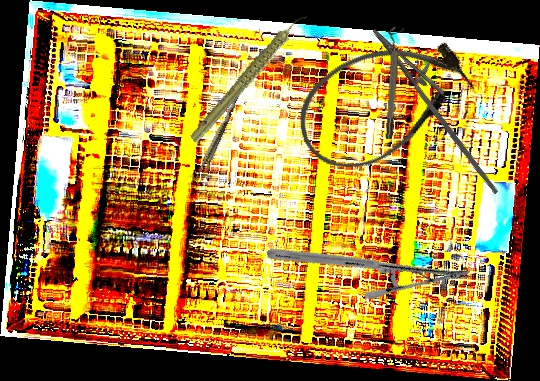Cannula: (279, 15, 487, 189)
Fixation Ring: (379, 26, 404, 140)
Handpiece: (169, 12, 331, 145)
Needle Holder: (265, 180, 473, 348), (353, 17, 528, 195)
Tissue Forceps: (193, 76, 250, 184)
